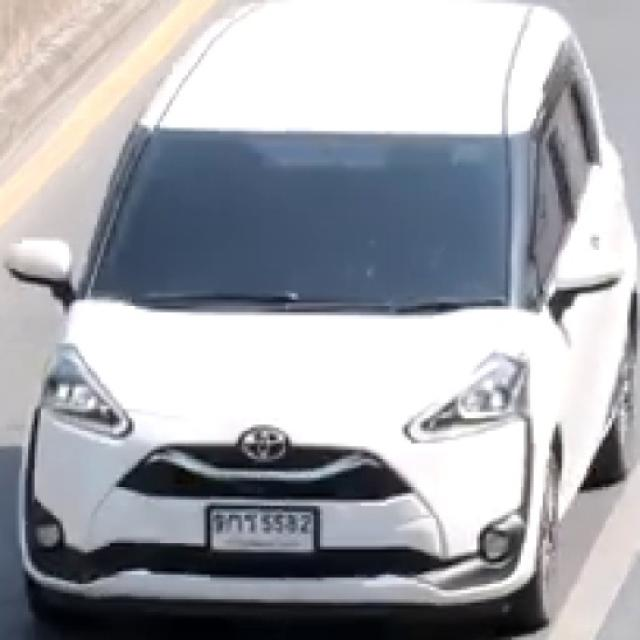plate: (204, 503, 321, 558)
